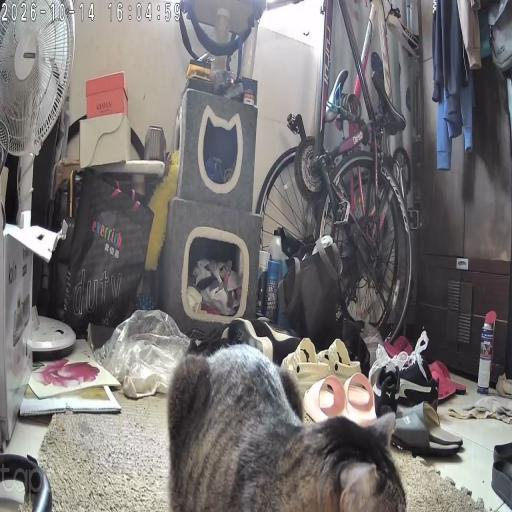cat: (174, 355, 391, 512)
